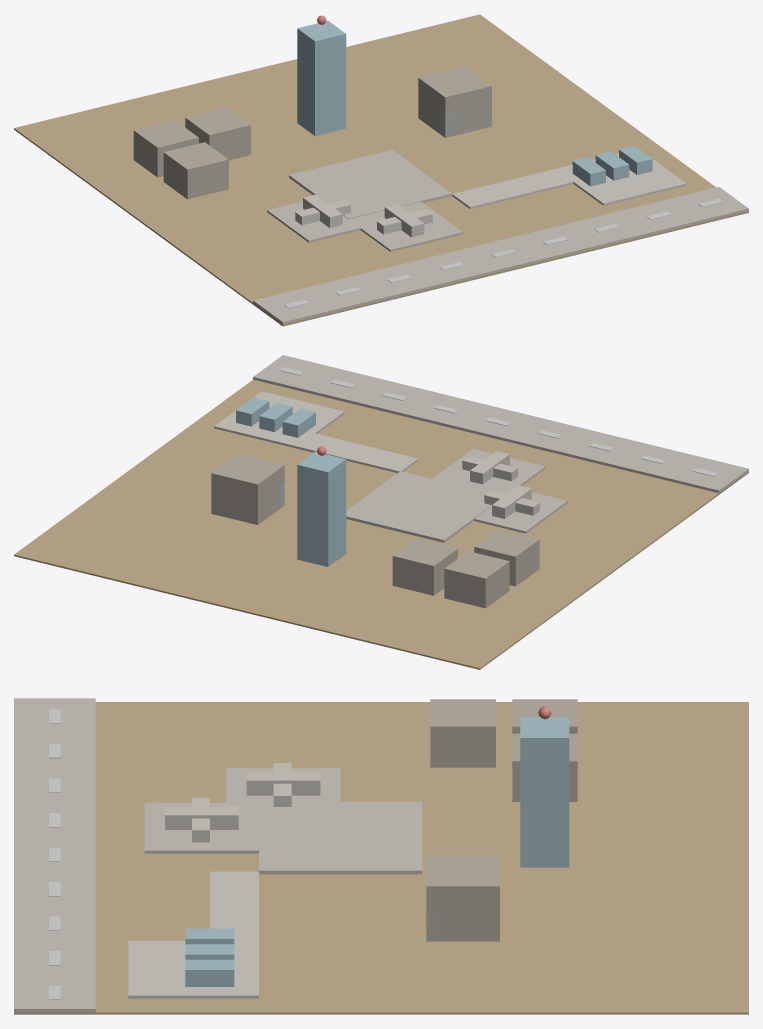
File: stage_10.glb
The picture shows the model from 3 angles, top to bottom: view 1: azimuth 30°, elevation 25°; view 2: azimuth 150°, elevation 25°; view 3: azimuth 270°, elevation 25°; orthographic projection. The views are drawn at different scales.
Visible parts, largest first — view 1: geometry_0; view 2: geometry_0; view 3: geometry_0.
Boxes of the visible parts, <box> form: geometry_0: <box>14,14,748,326</box>; geometry_0: <box>14,355,748,669</box>; geometry_0: <box>14,698,748,1014</box>.
Bounding box in the file's own units: 9 × 2.06 × 9.
